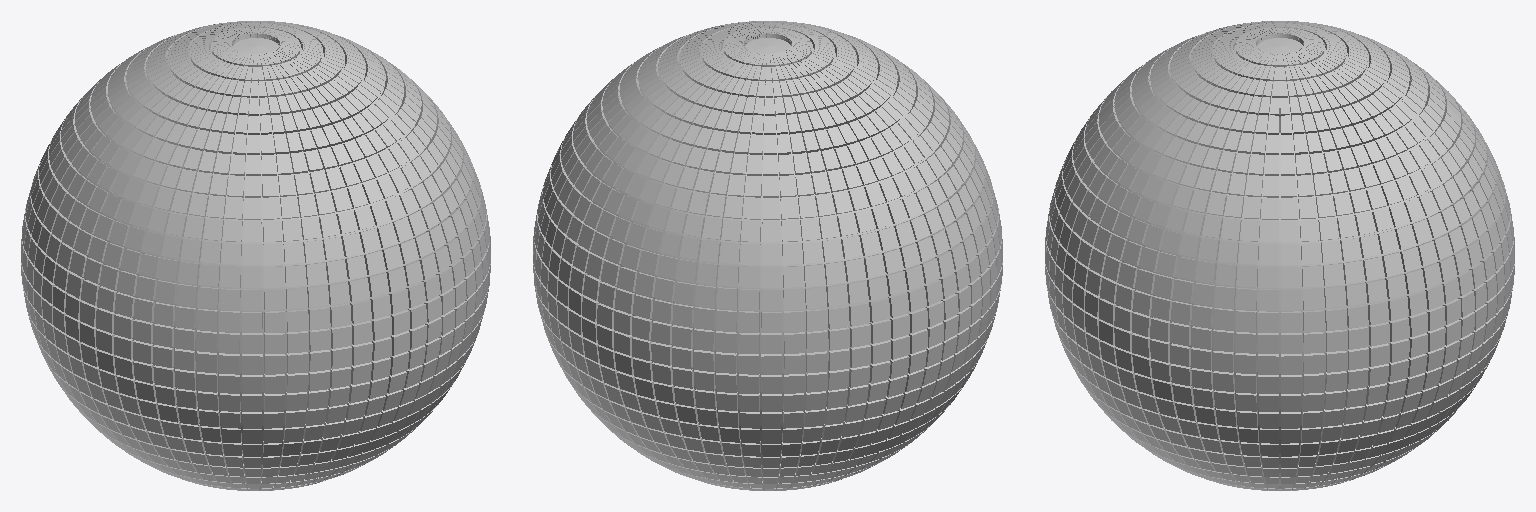
Rendered from discoball.obj.
The picture shows the model from 3 angles: view 1: azimuth 30°, elevation 25°; view 2: azimuth 150°, elevation 25°; view 3: azimuth 270°, elevation 25°; orthographic projection.
Parts seen in each view (by area): view 1: Sphere001_Untitled; view 2: Sphere001_Untitled; view 3: Sphere001_Untitled.
Boxes of the visible parts, x1=… form: Sphere001_Untitled: x1=21, y1=21, x2=490, y2=490; Sphere001_Untitled: x1=533, y1=21, x2=1002, y2=490; Sphere001_Untitled: x1=1045, y1=21, x2=1514, y2=490.
Bounding box in the file's own units: 2.04 × 2.03 × 2.04.